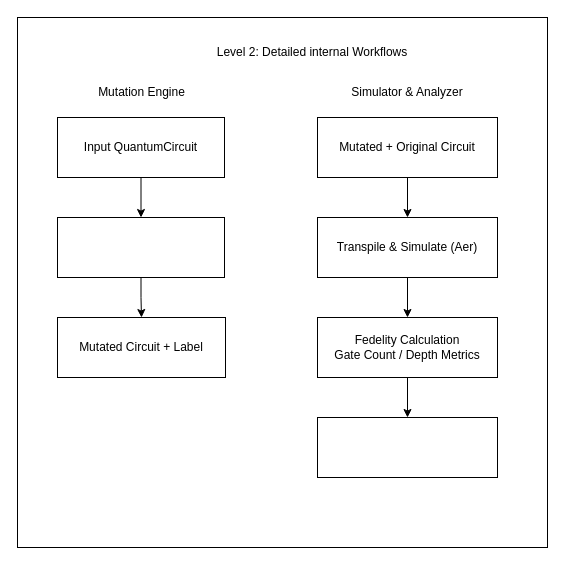
Image size: 565x565. Some labels were removed from this diagram. The shapes that lost their labels are listed below. From the top down, each one's box as (x1, y1, x2, y2) in pixels, then its label:
(56, 216, 224, 278): Hadamard Mutator
(316, 416, 498, 478): Circuits Stats + Fidelity
